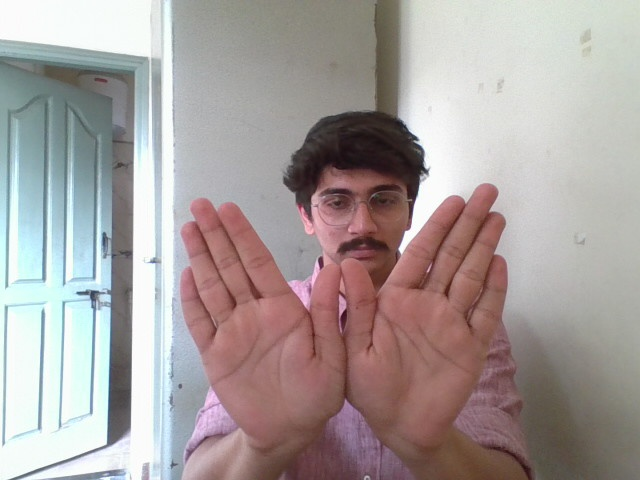hug: (163, 181, 540, 444)
